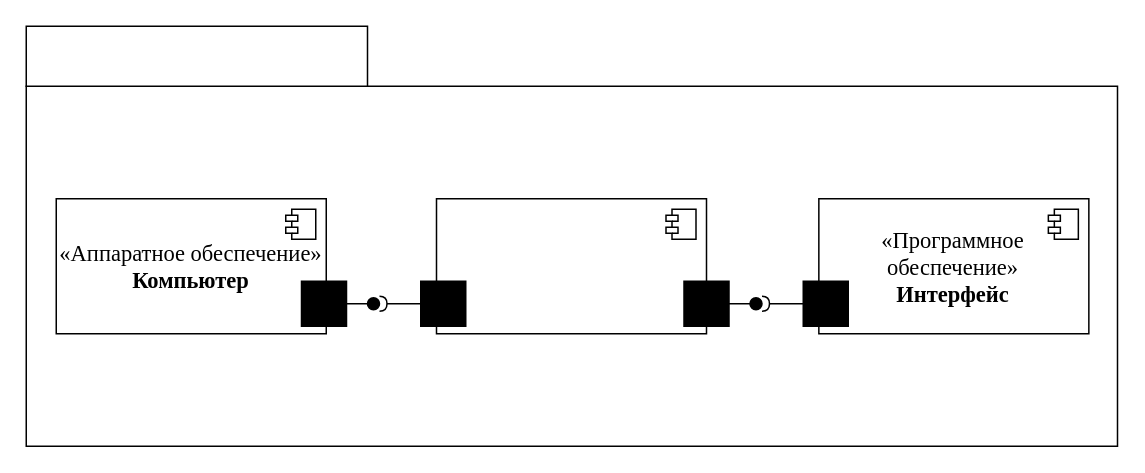
This 1145x473 diagram has some shape labels left out. The shapes that lost their labels are listed below. From the top down, each one's box as (x1, y1, x2, y2) in pixels, then its label:
(25, 25, 368, 86): Программма " Attendance App"
(435, 197, 706, 334): «Пограммное обеспечение» Программа
